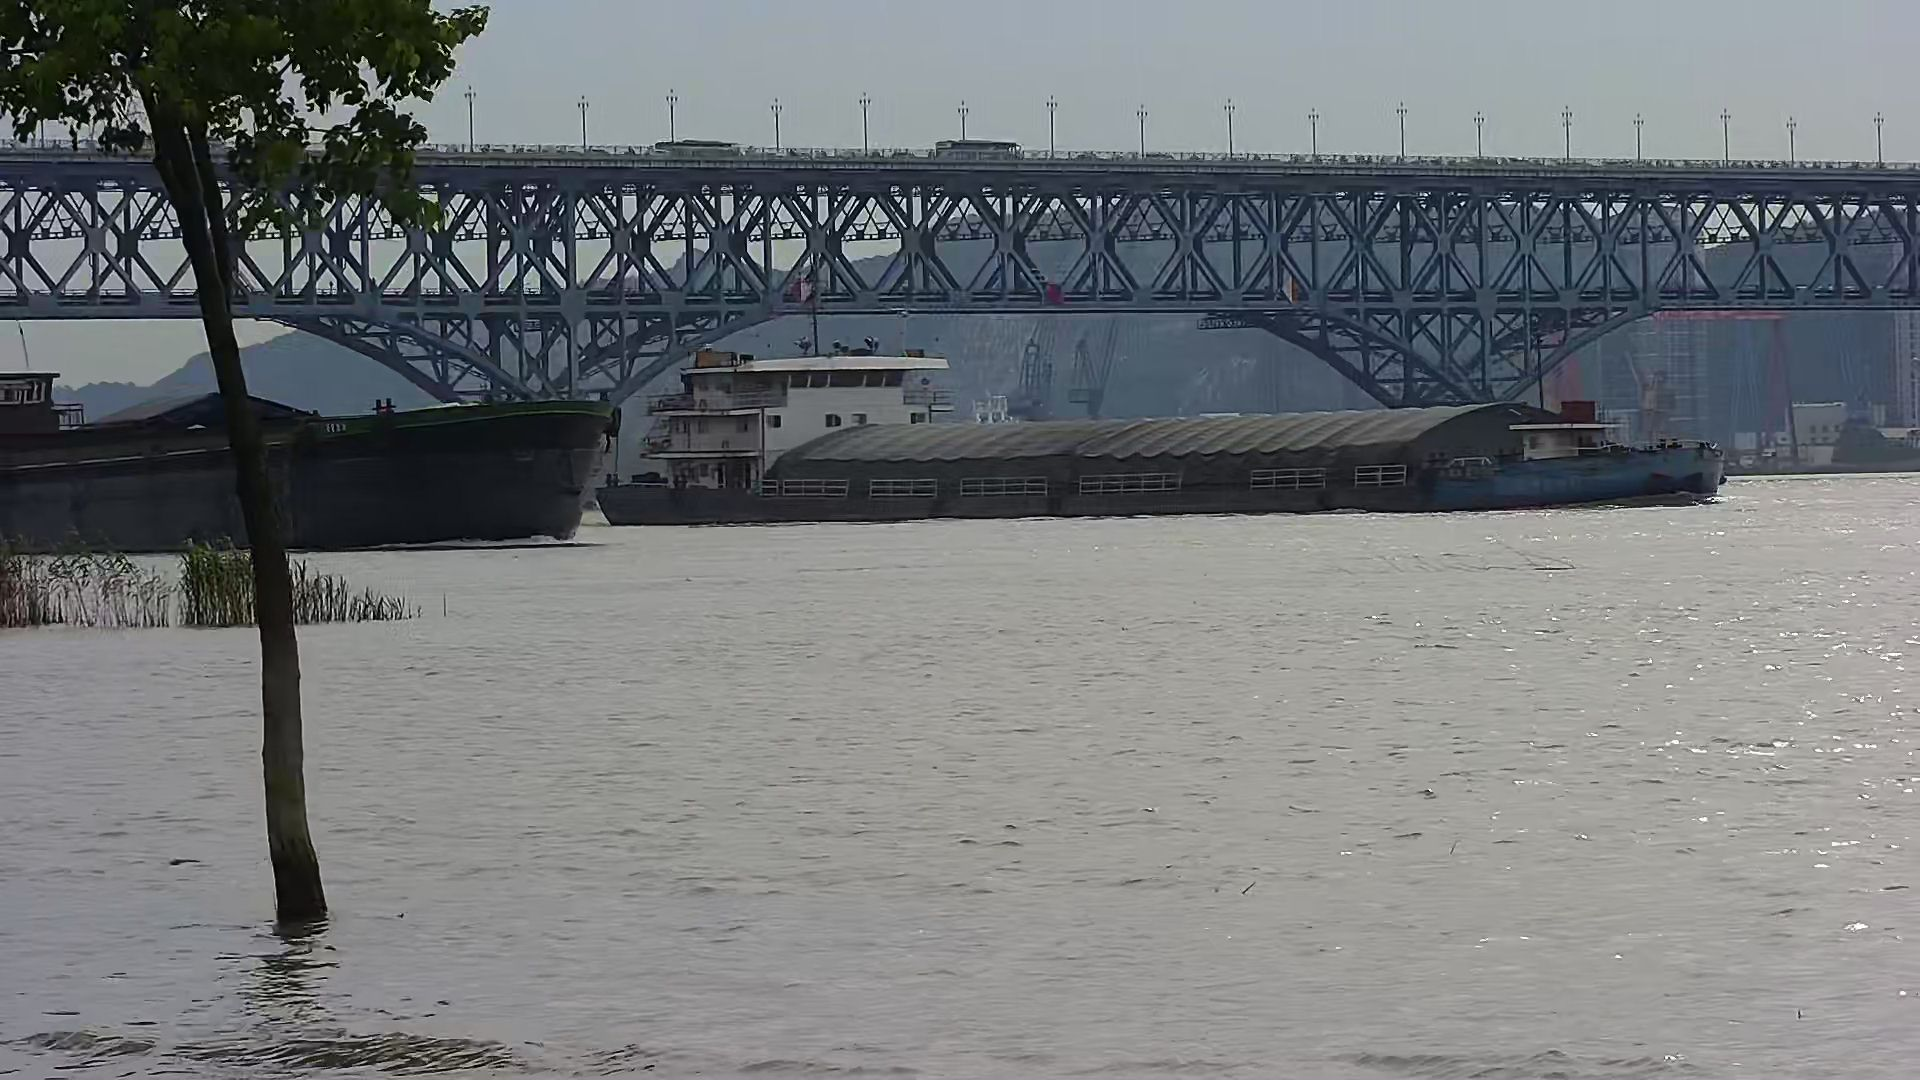bridge: (1, 115, 1920, 475)
grass: (1, 527, 421, 628)
ship: (599, 345, 1724, 526), (1, 367, 603, 550)
tree: (3, 1, 488, 932)
